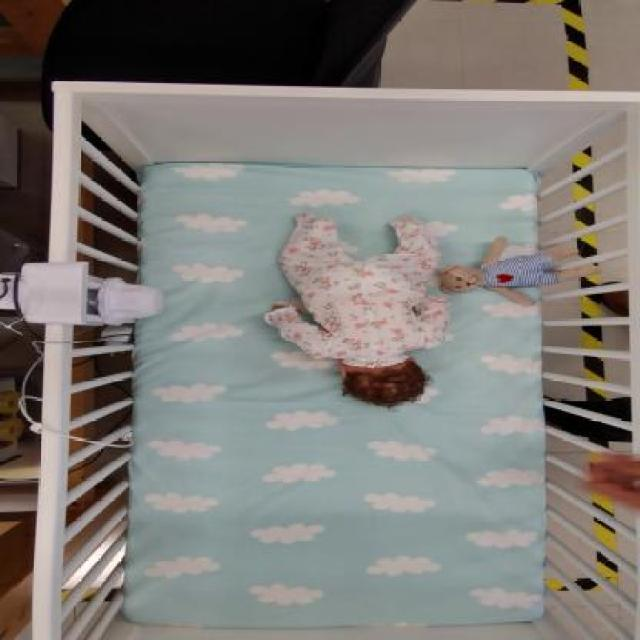baby: (263, 214, 449, 412)
